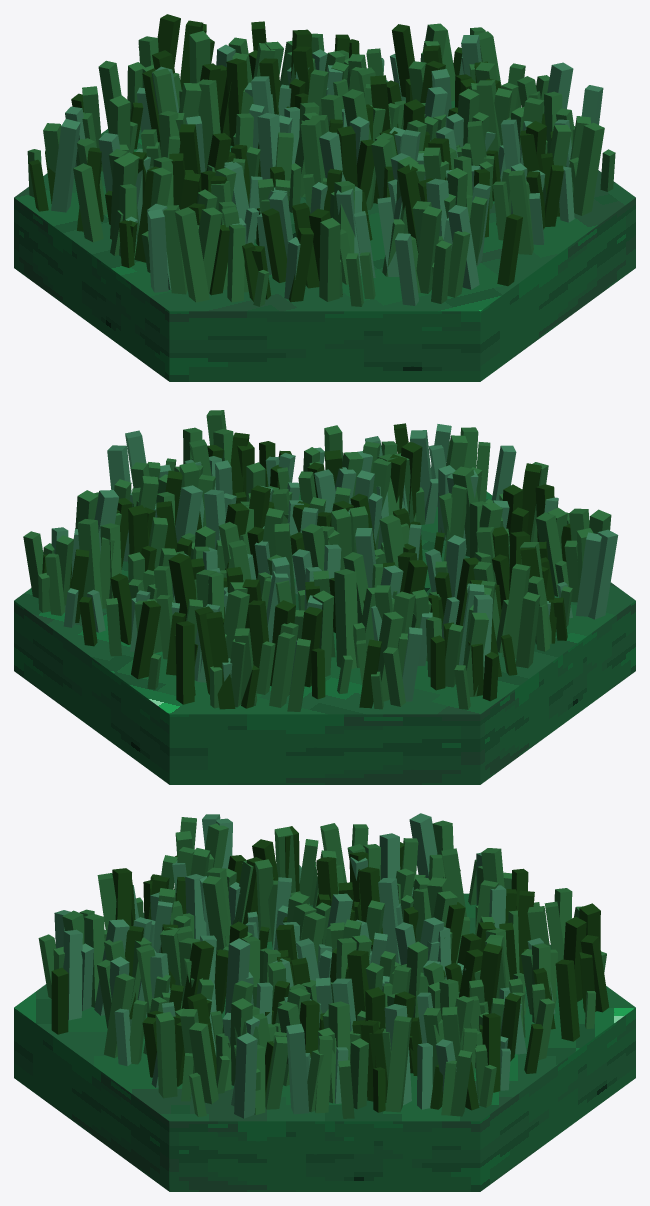
File: hex_grass_2.gltf
3 renders of one model, top to bottom at view 1: azimuth 30°, elevation 25°; view 2: azimuth 150°, elevation 25°; view 3: azimuth 270°, elevation 25°, orthographic.
Visible parts, largest first — view 1: Cube, grass; view 2: Cube, grass; view 3: Cube, grass.
Boxes of the visible parts, x1=… form: Cube: x1=27, y1=14, x2=615, y2=306; grass: x1=14, y1=94, x2=635, y2=381; Cube: x1=23, y1=410, x2=618, y2=711; grass: x1=14, y1=491, x2=635, y2=784; Cube: x1=38, y1=813, x2=609, y2=1118; grass: x1=14, y1=893, x2=635, y2=1191.
Size of the model in its own units: 1.76 by 0.5703 by 2.
4 materials, 1 textured.
